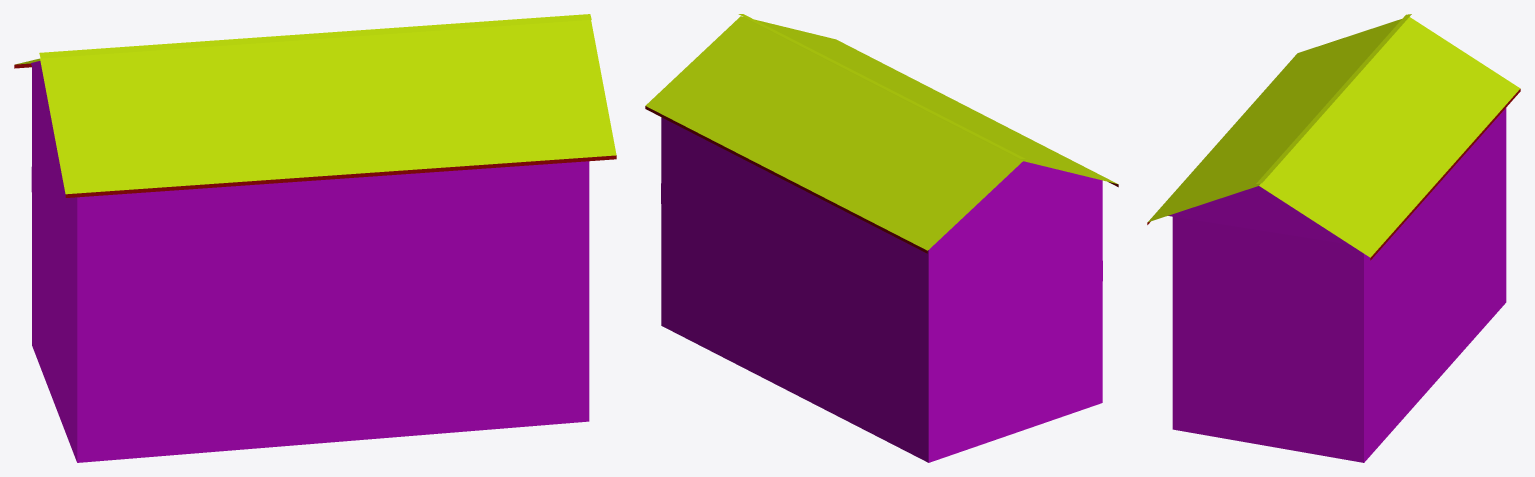
File: suc_5.glb
The picture shows the model from 3 angles, left to right: view 1: azimuth 30°, elevation 25°; view 2: azimuth 150°, elevation 25°; view 3: azimuth 270°, elevation 25°; orthographic projection. The views are drawn at different scales.
Visible parts, largest first — view 1: suc_5; view 2: suc_5; view 3: suc_5.
Boxes of the visible parts, x1,y1,x2,y2 form: suc_5: (14, 14, 616, 462); suc_5: (645, 14, 1118, 462); suc_5: (1147, 14, 1520, 462).
Size of the model in its own units: 17.77 by 10.87 by 13.69.
